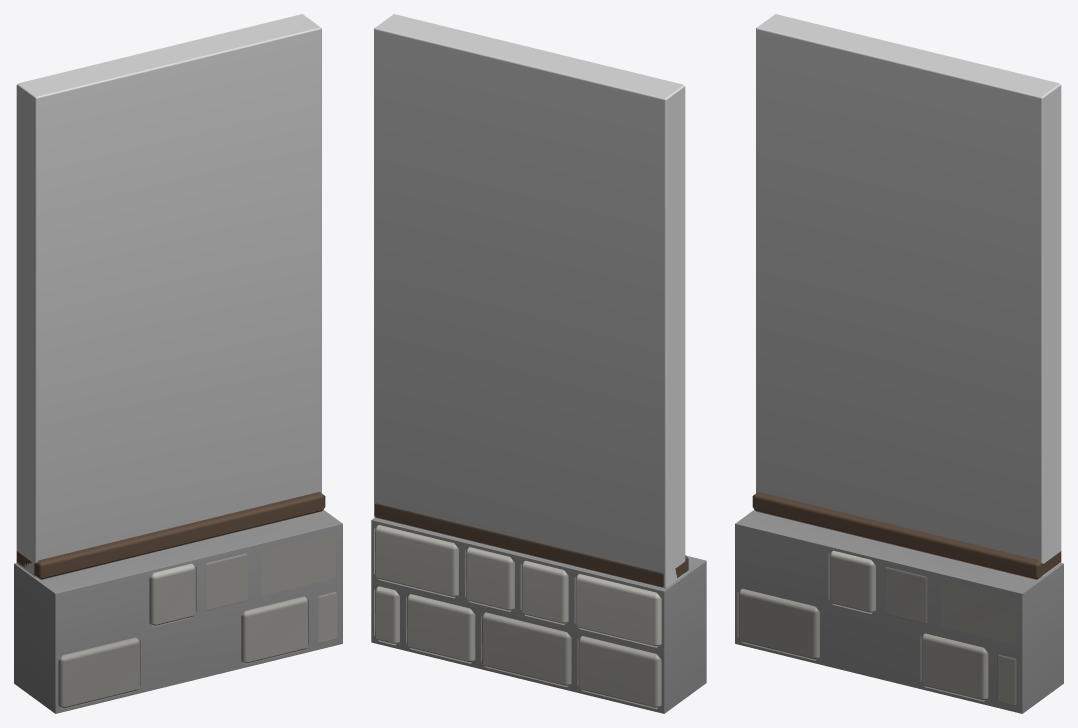
The model's file is plaster-wall-outer.glb.
The picture shows the model from 3 angles, left to right: view 1: azimuth 30°, elevation 25°; view 2: azimuth 150°, elevation 25°; view 3: azimuth 330°, elevation 25°; orthographic projection.
Parts seen in each view (by area): view 1: body; view 2: body; view 3: body.
Part boxes in pixels (x1=…): body: x1=14, y1=14, x2=342, y2=713; body: x1=371, y1=14, x2=706, y2=713; body: x1=735, y1=14, x2=1063, y2=713.
Size of what is drawn, in the model's own units: 1 by 2 by 0.2825.
